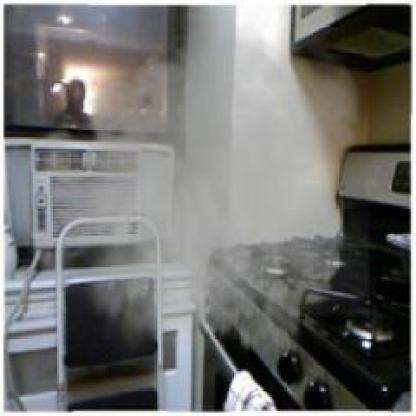Smoke: (18, 12, 370, 380)
